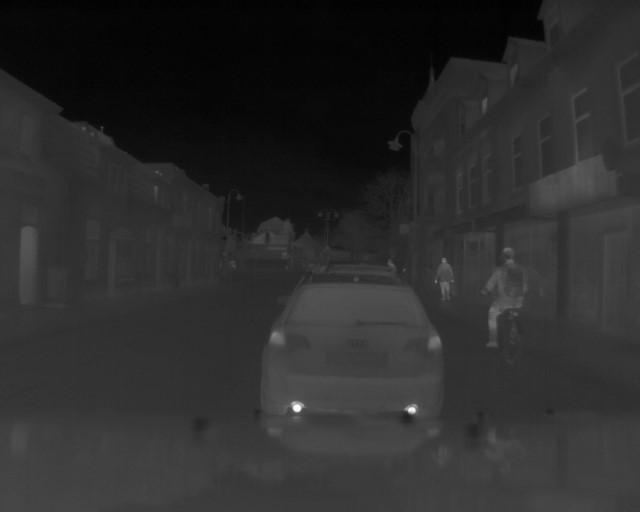car: (258, 265, 446, 418)
person: (481, 246, 531, 349), (435, 255, 456, 302)
